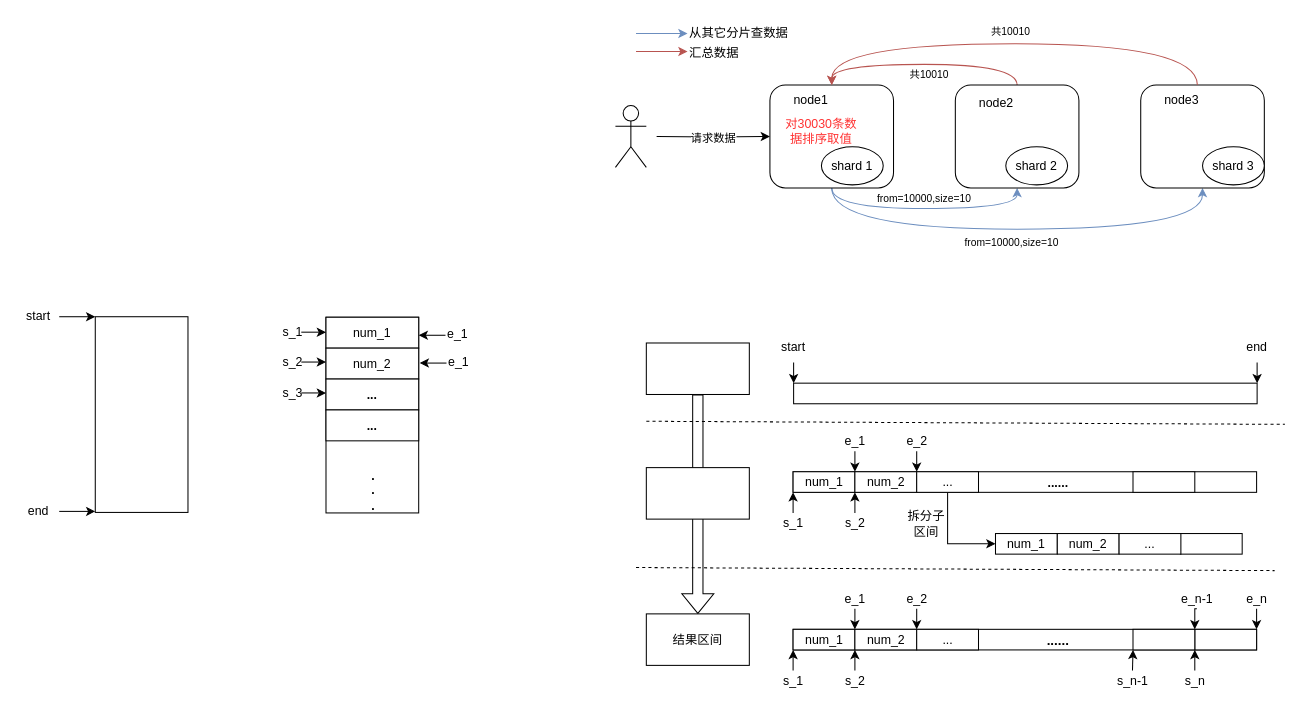
The diagram is 1305 pixels wide and 709 high, and some of its shapes have lost their labels. Here are the shapes that lost their labels. From the top down, the centre of each, then its label:
At (630,136): "Client".
At (697,368): "初始区间".
At (141,414): "数据".
At (697,493): "拆分区间".
At (1225,639): "num_n".
